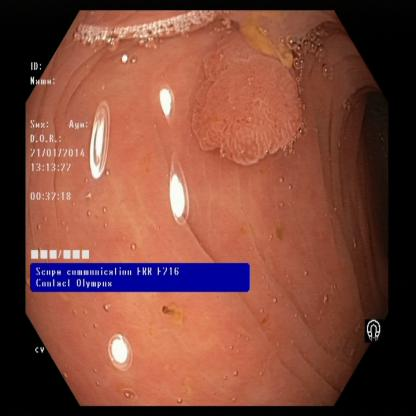Labels: (27, 59, 97, 263), (30, 262, 248, 292), (362, 307, 394, 354)
Polyps: (189, 47, 308, 169)
